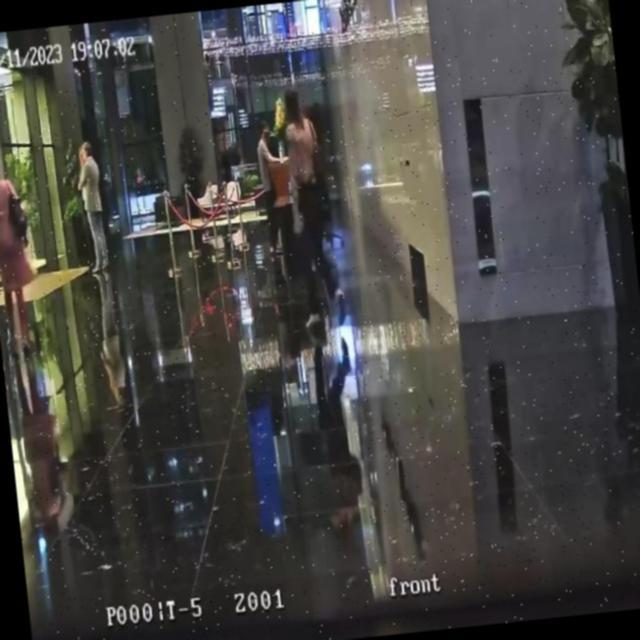person: (280, 85, 338, 297), (0, 151, 41, 353), (254, 122, 293, 258), (73, 138, 110, 274)
